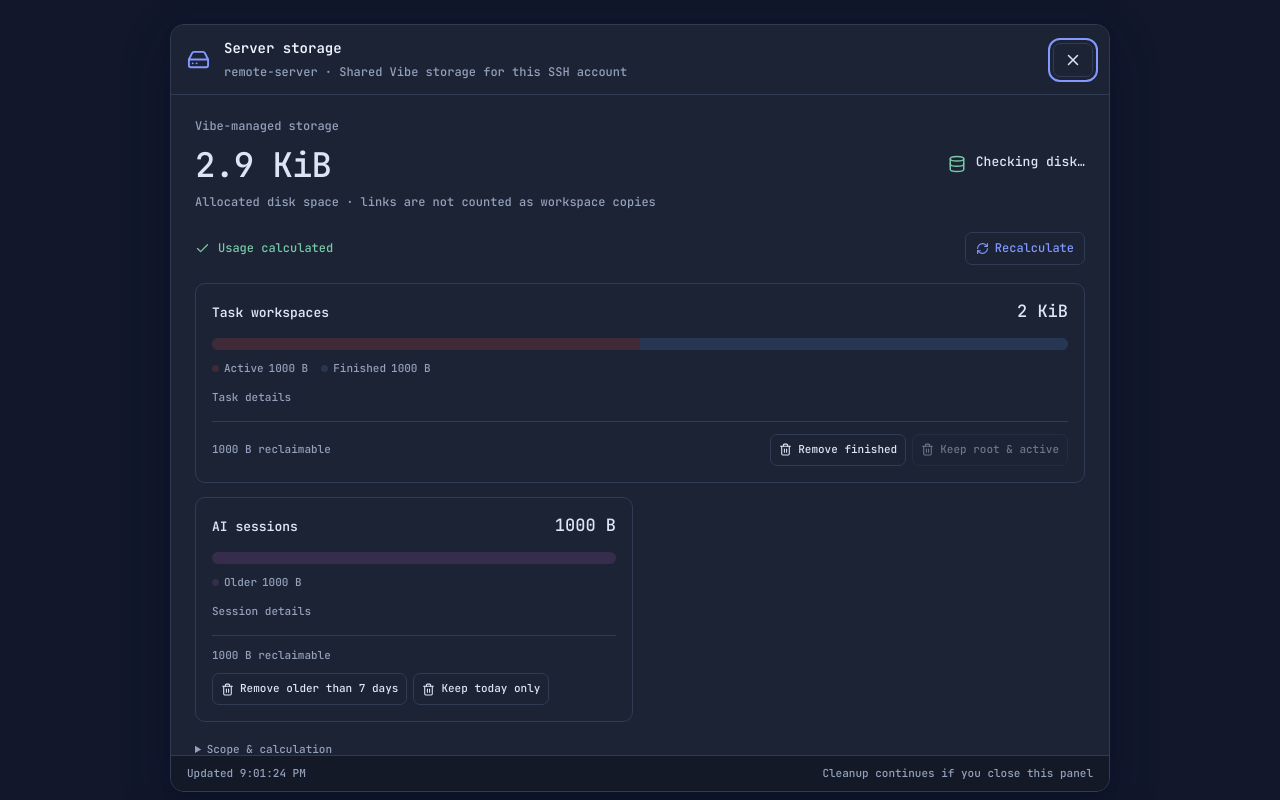
server storage panel › calculates on open, previews cleanup, and renders refreshed totals after deletion
Expected: the text "remote-server · Shared Vibe storage for this SSH account" is shown, [224, 64, 627, 80]
Expected: the 1st element with class "storage-active" is shown, [212, 338, 640, 350]
Click the button "Remove older than 7 days".
click(310, 689)  # box [212, 673, 407, 705]
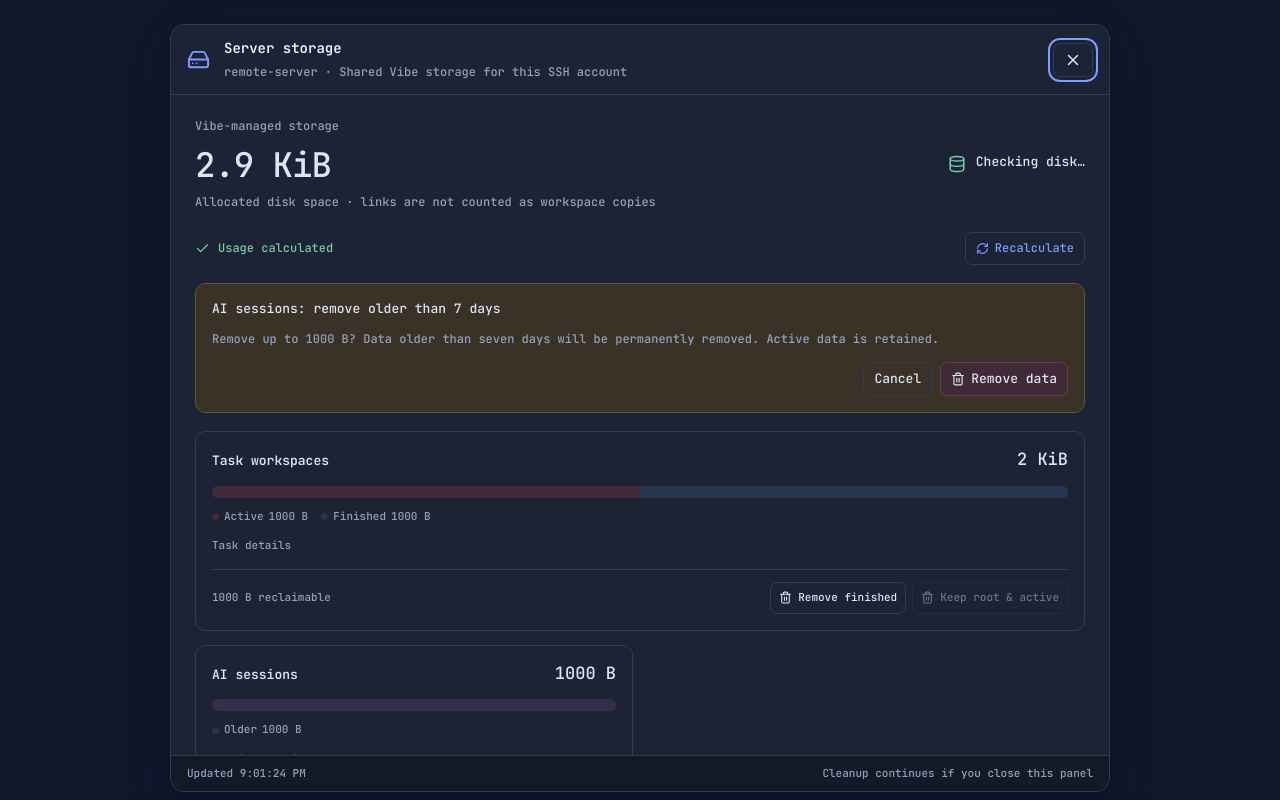
Click the button "Remove data".
click(1004, 379)  # box [940, 362, 1068, 396]
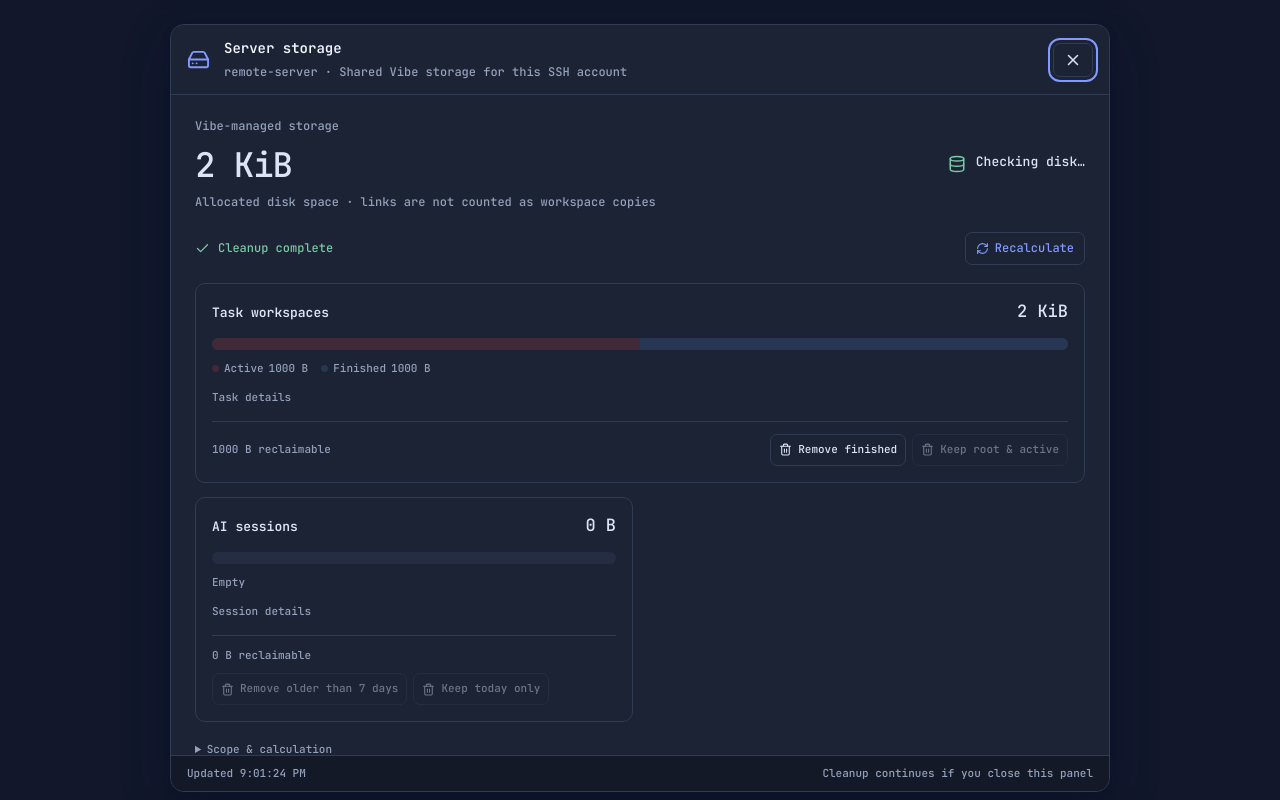
Result: the button "Remove older than 7 days" is disabled at [212, 673, 407, 705]
Result: the text "Cleanup complete" is shown at [218, 240, 333, 256]
